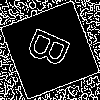B: (25, 25, 80, 74)
